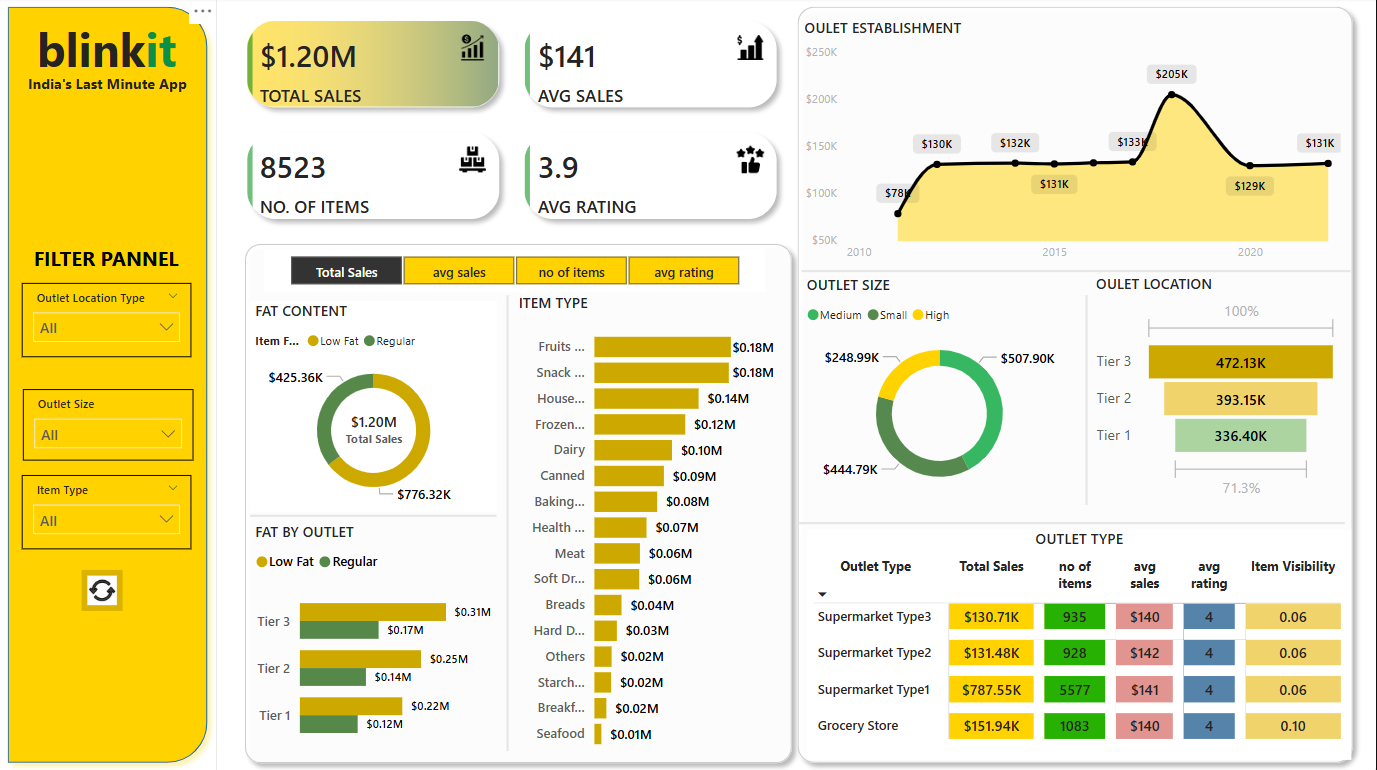

This screenshot's page, from the dashboard's own definition file:
{"tool":"powerbi","page":{"name":"Page 1","canvas":[1280,720],"ordinal":0},"visuals":[{"type":"shape","box":[0,0,203.3,720],"z":0},{"type":"textbox","box":[22.2,14,157.6,67.7],"z":1000},{"type":"textbox","box":[0,66.5,203.1,47.9],"z":2000},{"type":"cardVisual","fields":{"Data":["BlinkIT Grocery Data.Total Sales","BlinkIT Grocery Data.avg sales","BlinkIT Grocery Data.no of items","BlinkIT Grocery Data.avg rating"]},"box":[214.4,5.6,527.8,218.9],"z":3000},{"type":"shape","box":[220,220,525.6,500],"z":4000},{"type":"donutChart","title":"FAT CONTENT","fields":{"Y":["BlinkIT Grocery Data.Total Sales"],"Category":["BlinkIT Grocery Data.Item Fat Content"]},"box":[234.4,282.2,228.9,195.6],"z":5000},{"type":"slicer","fields":{"Values":["Metrics.Metrics"]},"box":[246.7,234.4,465.6,40],"z":6000},{"type":"cardVisual","fields":{"Data":["BlinkIT Grocery Data.Total Sales"]},"box":[298.9,367.8,100,57.8],"z":7000},{"type":"clusteredBarChart","title":"FAT BY OUTLET","fields":{"Y":["BlinkIT Grocery Data.Total Sales"],"Category":["BlinkIT Grocery Data.Outlet Location Type"],"Series":["BlinkIT Grocery Data.Item Fat Content"]},"box":[234.4,486.7,228.9,221.1],"z":8000},{"type":"shape","box":[234.4,470,228.9,23.3],"z":9000},{"type":"shape","box":[463.3,276.7,18.9,423.3],"z":10000},{"type":"barChart","title":"ITEM TYPE","fields":{"Y":["BlinkIT Grocery Data.Total Sales"],"Category":["BlinkIT Grocery Data.Item Type"]},"box":[478.9,274.4,246.7,433.3],"z":11000},{"type":"shape","box":[733.3,0,533.3,720],"z":12000},{"type":"lineChart","title":"OULET ESTABLISHMENT","fields":{"Y":["BlinkIT Grocery Data.Total Sales"],"Category":["BlinkIT Grocery Data.Outlet Establishment Year"]},"box":[743.3,18.9,507.8,235.6],"z":13000},{"type":"shape","box":[745.6,243.3,510,22.2],"z":14000},{"type":"donutChart","title":"OUTLET SIZE","fields":{"Y":["BlinkIT Grocery Data.Total Sales"],"Category":["BlinkIT Grocery Data.Outlet Size"]},"box":[745.6,257.8,255.6,212.2],"z":15000},{"type":"shape","box":[1004.4,276.7,13.3,194.4],"z":16000},{"type":"funnel","title":"OULET LOCATION","fields":{"Category":["BlinkIT Grocery Data.Outlet Location Type"],"Y":["Sum(BlinkIT Grocery Data.Sales)"]},"box":[1014.4,256.7,234.4,213.3],"z":17000},{"type":"shape","box":[741.1,477.8,510,22.2],"z":18000},{"type":"pivotTable","title":"OUTLET TYPE","fields":{"Rows":["BlinkIT Grocery Data.Outlet Type"],"Values":["BlinkIT Grocery Data.Total Sales","BlinkIT Grocery Data.no of items","BlinkIT Grocery Data.avg sales","BlinkIT Grocery Data.avg rating","Avg(BlinkIT Grocery Data.Item Visibility)"]},"box":[751.1,494.4,505.6,214.4],"z":19000},{"type":"slicer","fields":{"Values":["BlinkIT Grocery Data.Outlet Location Type"]},"box":[22.2,265.6,157.8,68.9],"z":20000},{"type":"slicer","fields":{"Values":["BlinkIT Grocery Data.Outlet Size"]},"box":[23.1,364,158.4,66.1],"z":21000},{"type":"slicer","fields":{"Values":["BlinkIT Grocery Data.Item Type"]},"box":[22.2,443.3,157.8,68.9],"z":22000},{"type":"textbox","box":[21.1,224.4,158.9,36.7],"z":23000},{"type":"image","box":[77.6,531.9,37.8,37.8],"z":23001}]}

Visuals, with their boxes in screenshot pixels (x1, y1, x2, y2), scaled from the page's 1280x720 canvas onto the 1377x770 screenshot:
shape: 0 0 219 769
textbox: 24 15 193 87
textbox: 0 71 218 122
cardVisual - BlinkIT Grocery Data.Total Sales x BlinkIT Grocery Data.avg sales: 231 6 798 240
shape: 237 235 802 769
"FAT CONTENT" donutChart: 252 302 498 511
slicer - Metrics.Metrics: 265 251 766 293
cardVisual - BlinkIT Grocery Data.Total Sales: 322 393 429 455
"FAT BY OUTLET" clusteredBarChart: 252 520 498 757
shape: 252 503 498 528
shape: 498 296 519 749
"ITEM TYPE" barChart: 515 293 781 757
shape: 789 0 1363 769
"OULET ESTABLISHMENT" lineChart: 800 20 1346 272
shape: 802 260 1351 284
"OUTLET SIZE" donutChart: 802 276 1077 503
shape: 1081 296 1095 504
"OULET LOCATION" funnel: 1091 275 1343 503
shape: 797 511 1346 535
"OUTLET TYPE" pivotTable: 808 529 1352 758
slicer - BlinkIT Grocery Data.Outlet Location Type: 24 284 194 358
slicer - BlinkIT Grocery Data.Outlet Size: 25 389 195 460
slicer - BlinkIT Grocery Data.Item Type: 24 474 194 548
textbox: 23 240 194 279
image: 83 569 124 609
